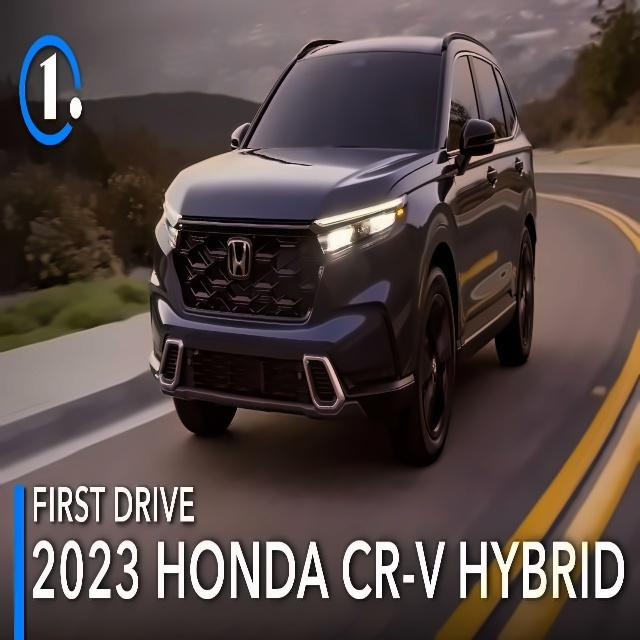Car hood: (161, 145, 437, 221)
Fender - -F-L-: (385, 145, 470, 358)
Fender - -R-R-: (145, 252, 427, 427)
Headlight - -L-: (307, 188, 411, 266)
Headlight - -R-: (154, 197, 188, 252)
Passenger-s door - -F-L-: (443, 32, 502, 348)
Passenger-s door - -R-L-: (477, 44, 533, 325)
Side bumper - -L-: (448, 297, 521, 366)
Side mirror - -L-: (455, 113, 498, 173)
Side mirror - -R-: (226, 117, 255, 155)
